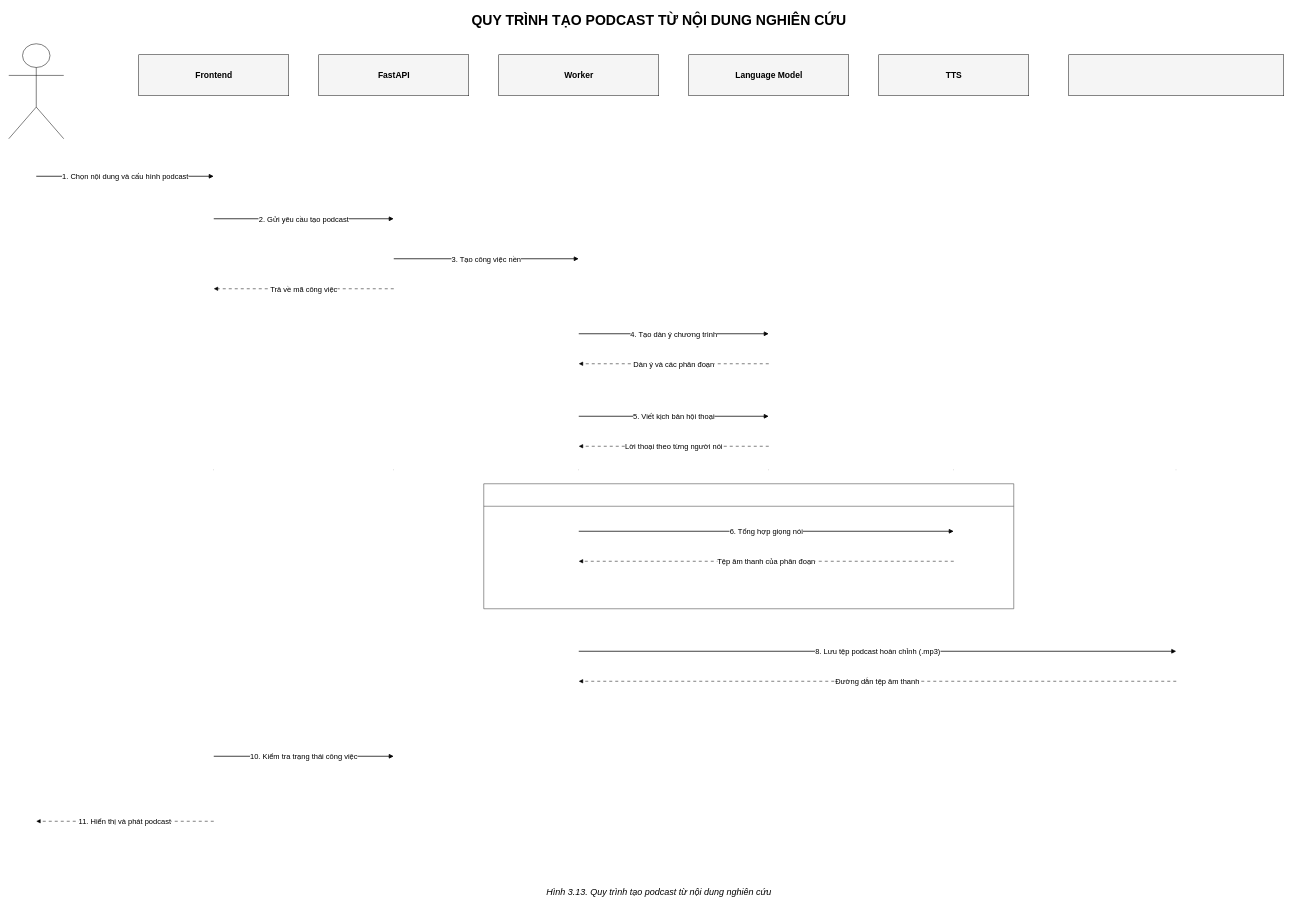
This 1293x912 diagram has some shape labels left out. Each missing label, with the centre of its shape:
"loop [mỗi câu thoại / phân đoạn]" goes at (748,546).
"Người dùng" goes at (36,91).
"Nơi lưu tệp podcast" goes at (1176,75).
